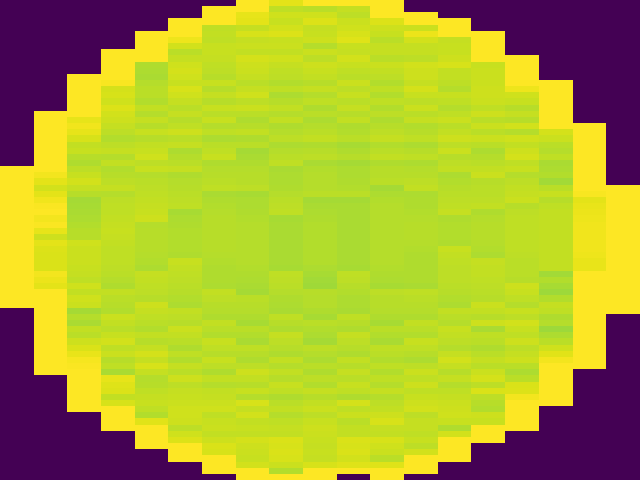sphere: (4, 2, 640, 480)
